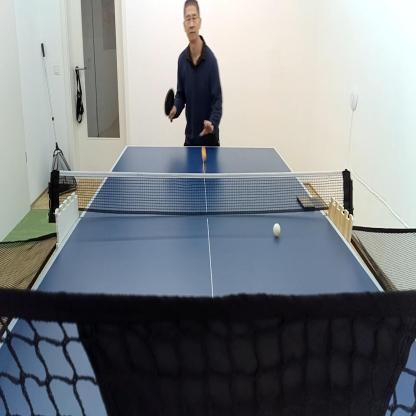Ball: (272, 221, 282, 240), (201, 145, 207, 162)
